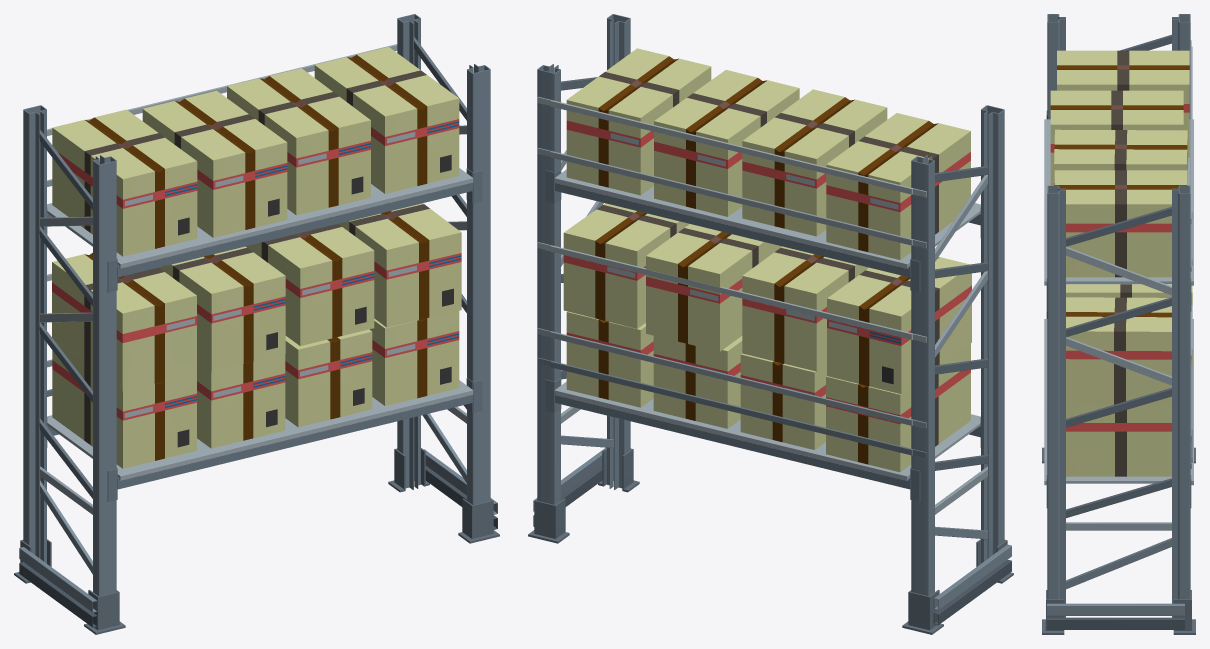
File: SM_ShelfBoxesx1_White_B.fbx
The picture shows the model from 3 angles, left to right: view 1: azimuth 30°, elevation 25°; view 2: azimuth 150°, elevation 25°; view 3: azimuth 270°, elevation 25°; orthographic projection. The views are drawn at different scales.
Parts seen in each view (by area): view 1: SM_ShelfBoxesx1_White_B; view 2: SM_ShelfBoxesx1_White_B; view 3: SM_ShelfBoxesx1_White_B.
Part boxes in pixels (x1,y1,x2,y2): SM_ShelfBoxesx1_White_B: (14,14,499,634); SM_ShelfBoxesx1_White_B: (528,14,1013,634); SM_ShelfBoxesx1_White_B: (1042,14,1195,634).
Size of the model in its own units: 336 by 370 by 118.
